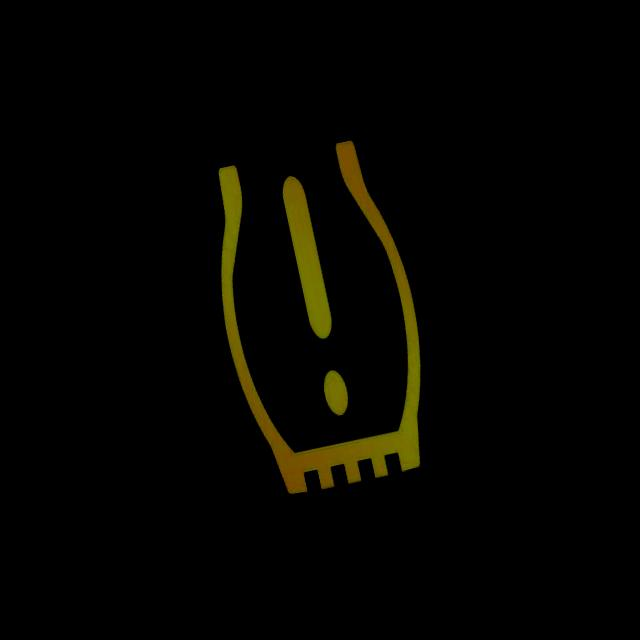kontrolka: (160, 101, 476, 536)
